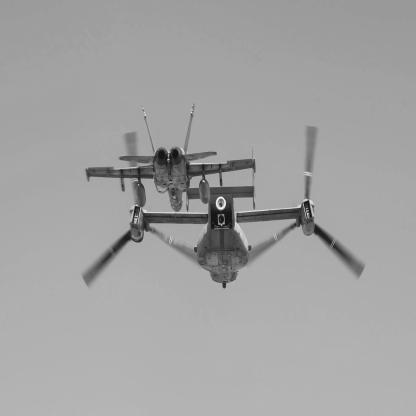F18: (86, 104, 257, 213)
V22: (81, 127, 366, 290)
